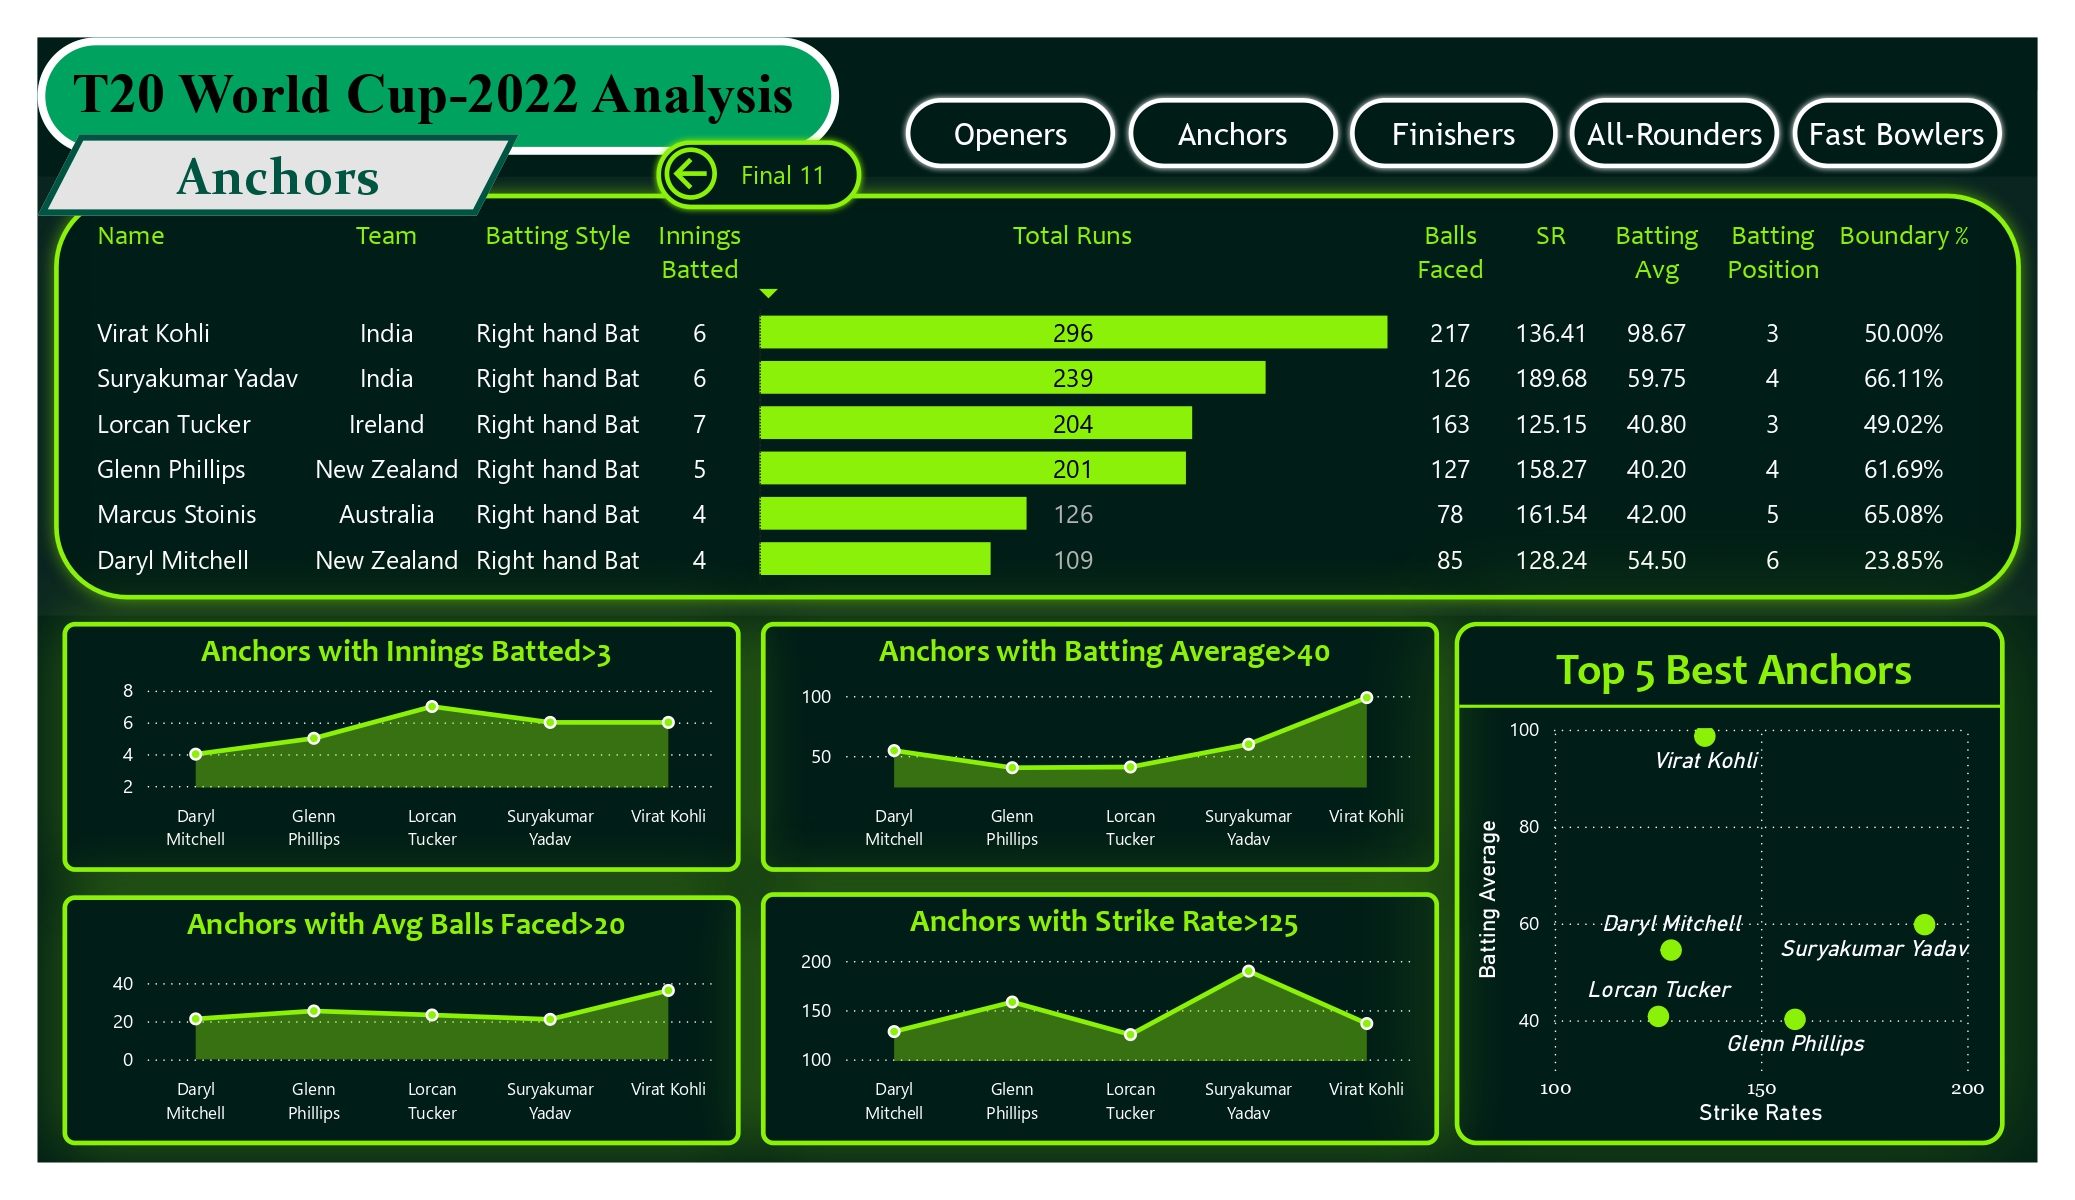

The page's visual inventory and layout, read from the dashboard file:
{"tool":"powerbi","page":{"name":"Anchors","canvas":[1280,720],"ordinal":1},"visuals":[{"type":"shape","box":[0,0,513.3,75.2],"z":0},{"type":"shape","box":[0,88.6,1280,281.4],"z":1000},{"type":"tableEx","fields":{"Values":["dim_players.name","dim_players.team","dim_players.battingStyle","Key measures.Total Innings Batted","Key measures.Total Runs","Key measures.Total Balls Faced","Key measures.Strike rate","Key measures.Batting Avg","Key measures.Batting Position","Key measures.Boundary %"]},"box":[27.1,105.7,1231.4,254.3],"z":2000},{"type":"stackedAreaChart","title":"Anchors with Batting Average>40","fields":{"Category":["dim_players.name"],"Y":["Key measures.Batting Avg"]},"box":[462.9,374.3,434.3,160],"z":3000},{"type":"stackedAreaChart","title":"Anchors with Innings Batted>3","fields":{"Category":["dim_players.name"],"Y":["Key measures.Total Innings Batted"]},"box":[15.7,374.3,434.3,160],"z":4000},{"type":"stackedAreaChart","title":"Anchors with Avg Balls Faced>20","fields":{"Category":["dim_players.name"],"Y":["Key measures.Avg. Balls Faced"]},"box":[15.7,548.6,434.3,160],"z":5000},{"type":"stackedAreaChart","title":"Anchors with Strike Rate>125","fields":{"Category":["dim_players.name"],"Y":["Key measures.Strike rate"]},"box":[462.9,547.1,434.3,161.4],"z":6000},{"type":"scatterChart","title":"Top 5 Best Anchors","fields":{"X":["Key measures.Strike rate"],"Y":["Key measures.Batting Avg"],"Category":["dim_players.name"]},"box":[907.1,374.3,351.4,334.3],"z":7000},{"type":"shape","box":[0,62.2,308,52],"z":8000},{"type":"shape","box":[0,5.8,506,62.2],"z":9000},{"type":"actionButton","box":[552.3,34.7,141.7,53.5],"z":10000},{"type":"actionButton","box":[694,34.7,141.7,53.5],"z":11000},{"type":"actionButton","box":[835.7,34.7,141.7,53.5],"z":12000},{"type":"actionButton","box":[977.3,34.7,141.7,53.5],"z":13000},{"type":"actionButton","box":[1119,34.7,141.7,53.5],"z":14000},{"type":"actionButton","box":[391.8,60.7,140.2,53.5],"z":15000}]}

Visuals, with their boxes on the page's 1280x720 design canvas (x1, y1, x2, y2). These are canvas units, not pixel positions in the 2075x1200 screenshot, which may show the page scaled, cropped or inside an application window:
shape: 0:0:513:75
shape: 0:89:1280:370
tableEx - dim_players.name x dim_players.team: 27:106:1258:360
"Anchors with Batting Average>40" stackedAreaChart: 463:374:897:534
"Anchors with Innings Batted>3" stackedAreaChart: 16:374:450:534
"Anchors with Avg Balls Faced>20" stackedAreaChart: 16:549:450:709
"Anchors with Strike Rate>125" stackedAreaChart: 463:547:897:708
"Top 5 Best Anchors" scatterChart: 907:374:1258:709
shape: 0:62:308:114
shape: 0:6:506:68
actionButton: 552:35:694:88
actionButton: 694:35:836:88
actionButton: 836:35:977:88
actionButton: 977:35:1119:88
actionButton: 1119:35:1261:88
actionButton: 392:61:532:114
